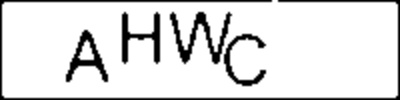A: (62, 26, 114, 86)
C: (222, 29, 269, 88)
H: (117, 10, 169, 67)
W: (163, 5, 235, 66)
